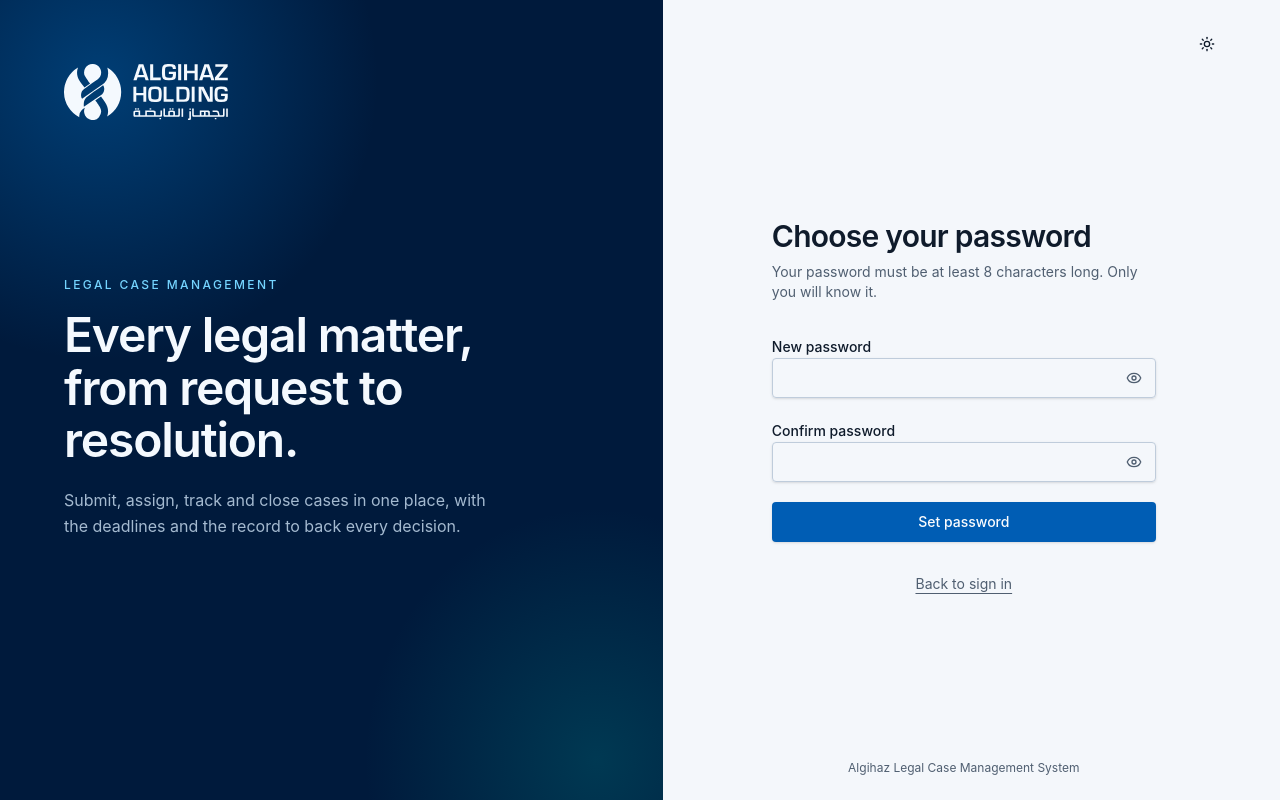
Test: SetPasswordPage › rejects two passwords that differ
Expected: the heading "Choose your password" is shown, [772, 218, 1091, 254]
Type "LongEnough#1" into the password field labelled "New password" at (964, 378), box [772, 358, 1156, 398]
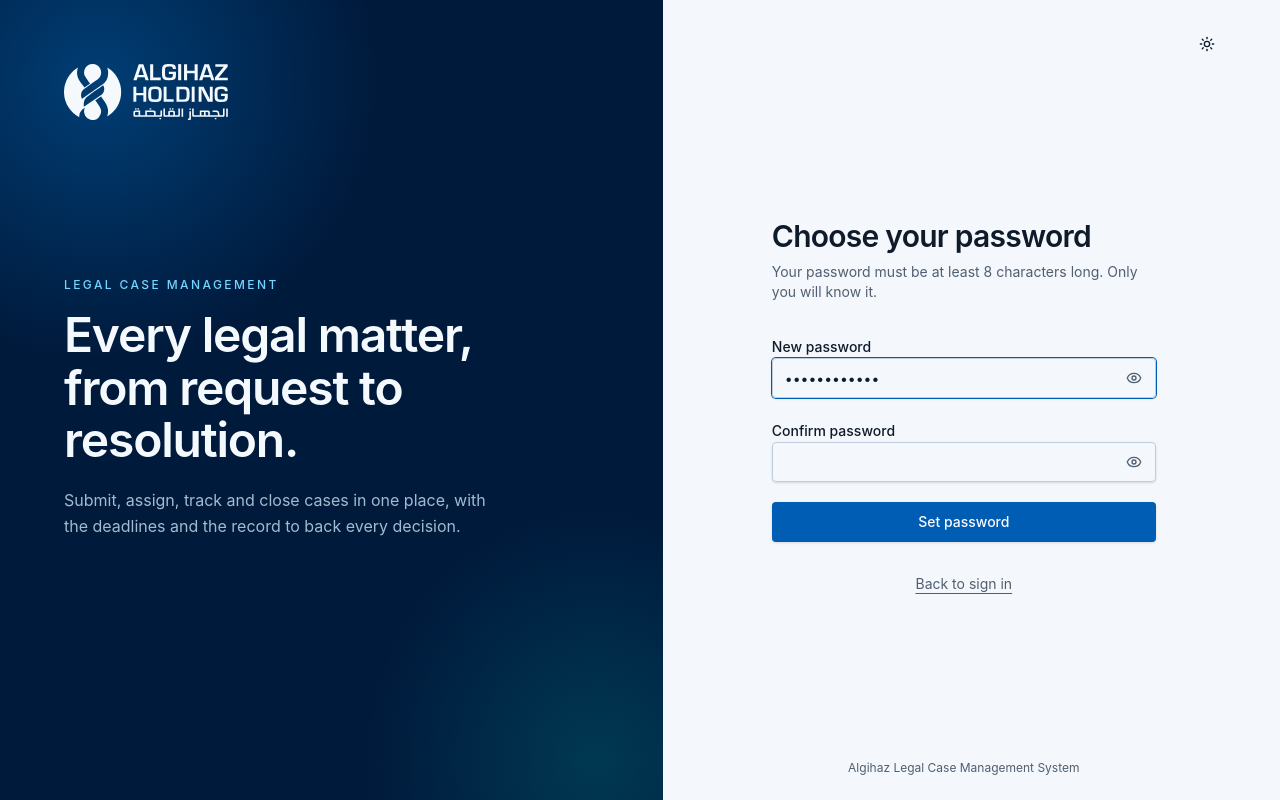
Type "LongEnough#2" into the password field labelled "Confirm password" at (964, 462), box [772, 442, 1156, 482]
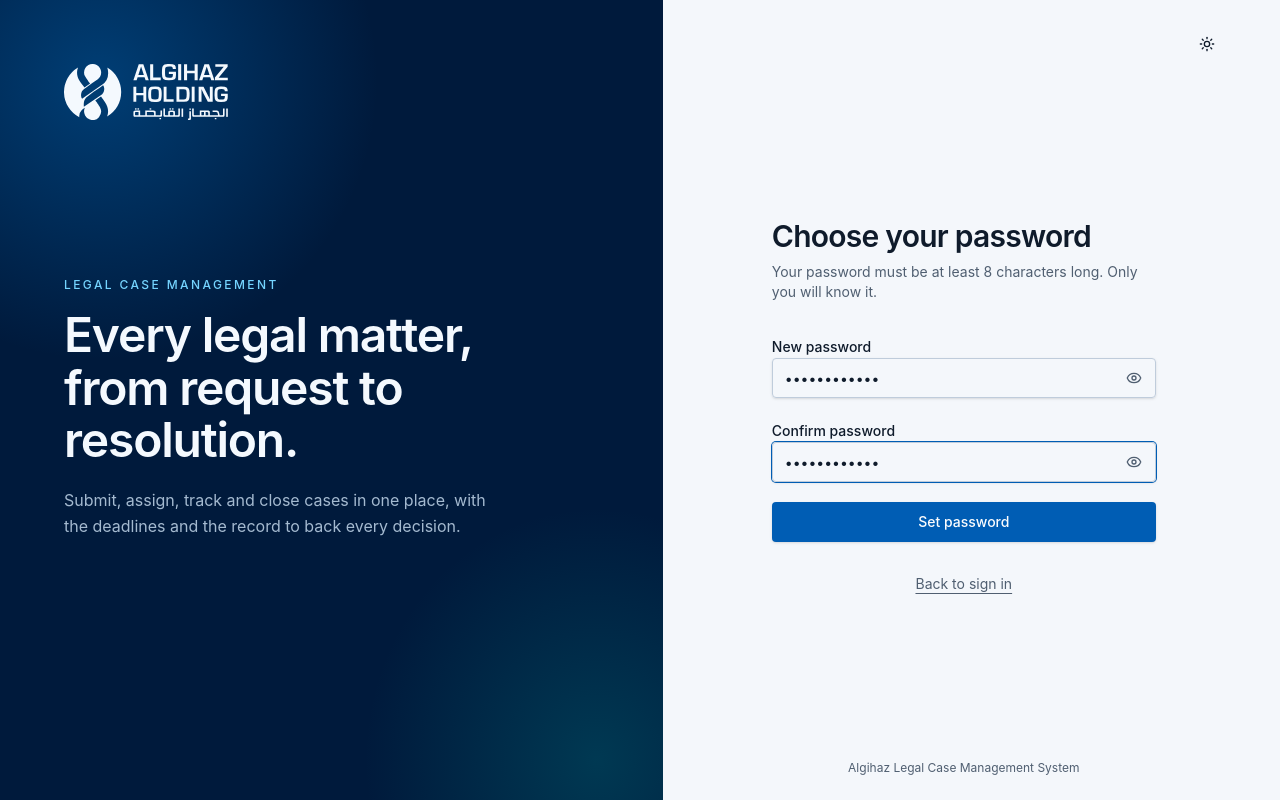
Click the button "Set password" at (964, 522), box [772, 502, 1156, 542]
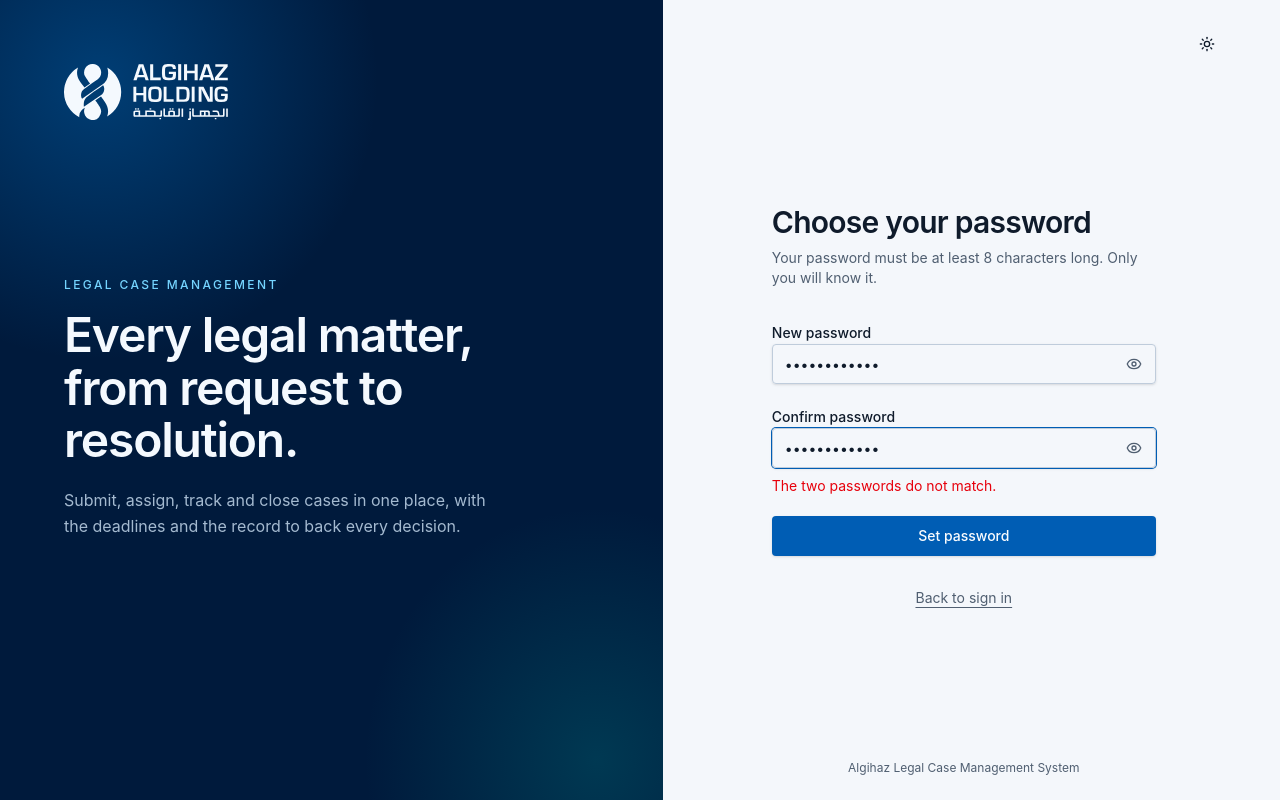
Expected: the text "The two passwords do not match." is shown, [772, 477, 996, 494]
